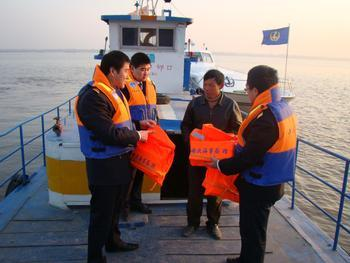other_clothes: (183, 88, 234, 144)
reflective_clothes: (232, 86, 299, 191), (77, 64, 133, 161), (124, 69, 161, 131)
